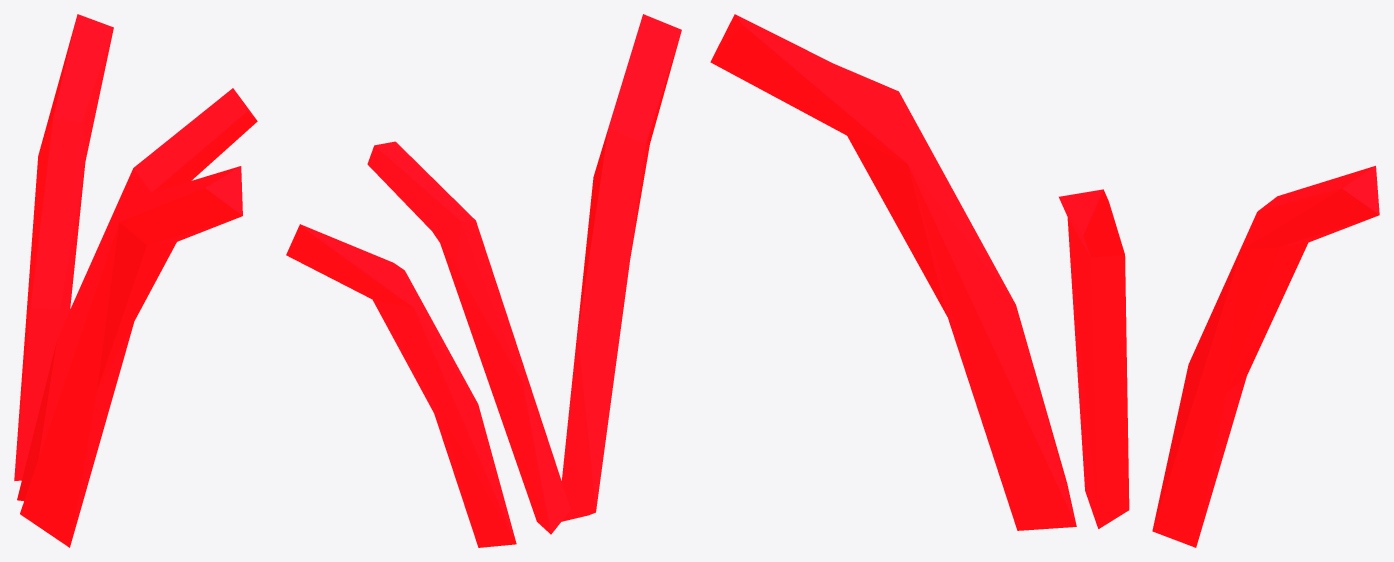
The model's file is coral4.fbx.
3 renders of one model, left to right at view 1: azimuth 30°, elevation 25°; view 2: azimuth 150°, elevation 25°; view 3: azimuth 270°, elevation 25°, orthographic. The views are drawn at different scales.
Parts seen in each view (by area): view 1: Corallo 4.004, Corallo 4.005, Corallo 4.003; view 2: Corallo 4.004, Corallo 4.003, Corallo 4.005; view 3: Corallo 4.004, Corallo 4.005, Corallo 4.003.
Part boxes in pixels (box(x1,y1,x2,y2)): Corallo 4.004: box(20, 166, 242, 547); Corallo 4.005: box(14, 14, 113, 481); Corallo 4.003: box(17, 88, 257, 500); Corallo 4.004: box(561, 14, 681, 521); Corallo 4.003: box(367, 141, 570, 534); Corallo 4.005: box(286, 224, 516, 547); Corallo 4.004: box(710, 14, 1076, 530); Corallo 4.005: box(1152, 165, 1379, 547); Corallo 4.003: box(1059, 189, 1129, 528).
Bounding box in the file's own units: 145 × 257 × 289.
